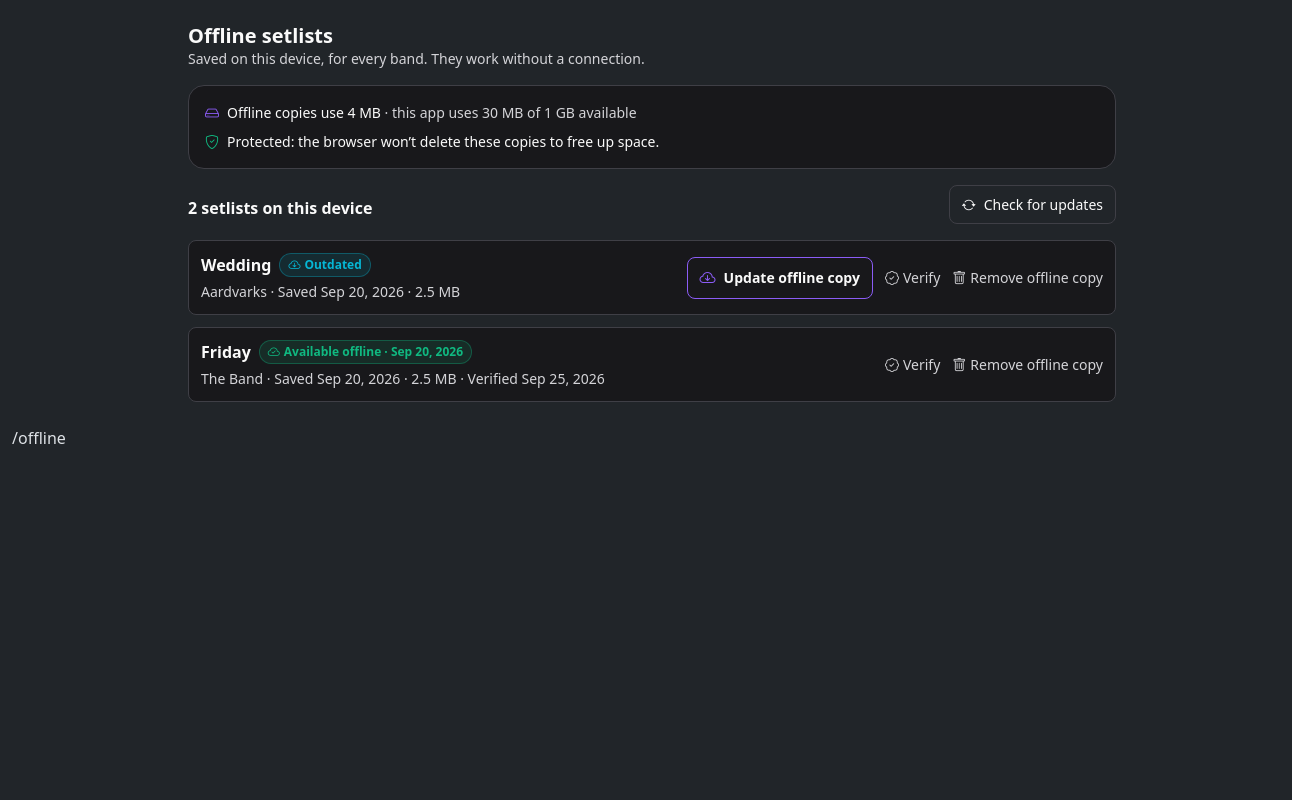
Test case: Offline setlists (/offline) › F2: Verify reads the copy back and says so
Check: the number of list items with test id "offline-manager-row" is 2, box [188,240,1116,315]; [188,327,1116,402]
Step 1. Click the button "Verify" in the row of "Friday" → (913, 364), box [885,344,940,384]
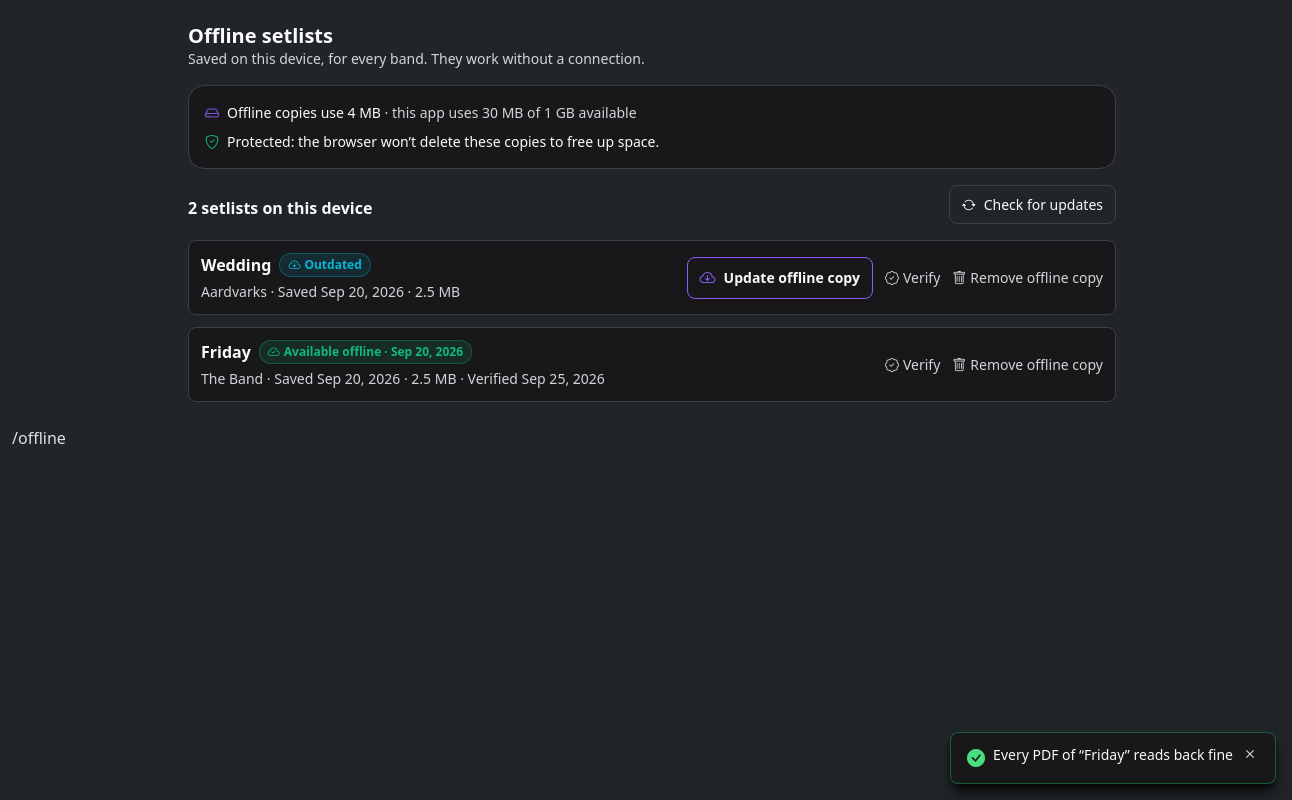
Check: the text "Every PDF of “Friday” reads back fine" is shown, box [993,745,1233,764]
